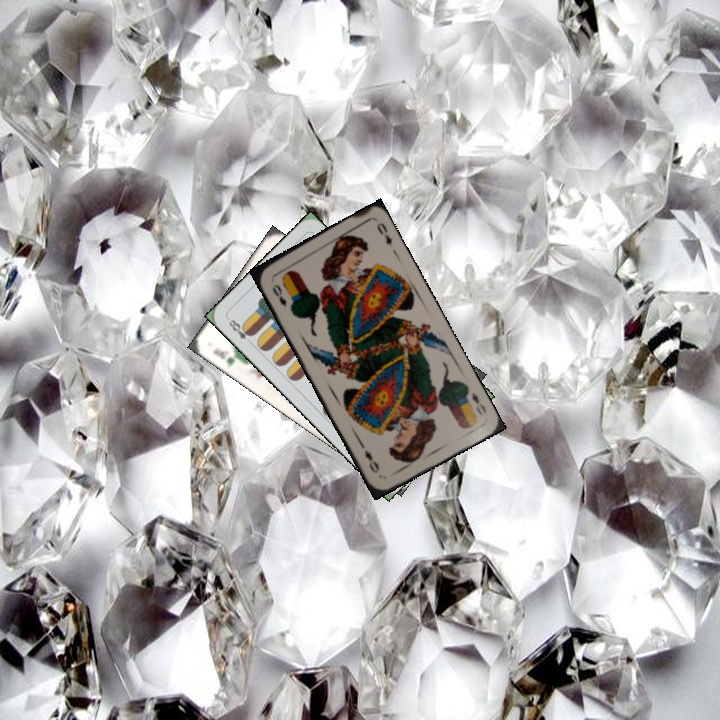E8: (224, 315, 256, 347)
EO: (467, 388, 489, 418), (268, 280, 289, 309)
GK: (209, 343, 244, 370)
